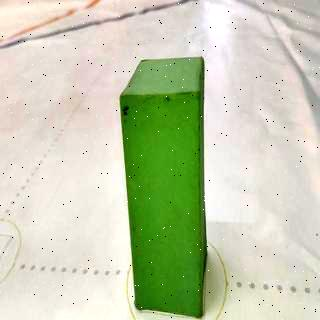greenbox: (119, 55, 205, 320)
